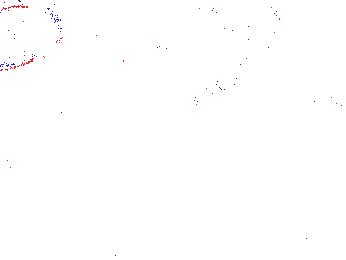moon jellyfish: (266, 1, 346, 105), (16, 1, 128, 57), (123, 3, 226, 51), (196, 16, 249, 96), (122, 40, 181, 109), (1, 5, 57, 71)
